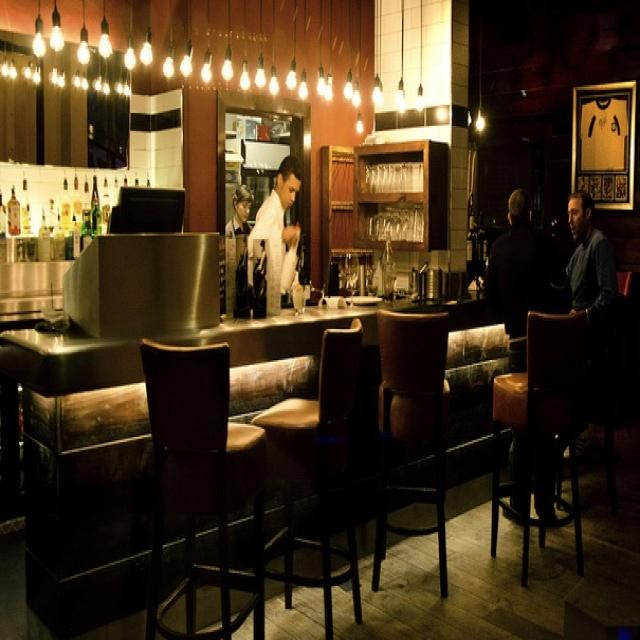Bottle: (316, 240, 366, 320), (366, 220, 406, 303), (0, 160, 26, 250), (98, 164, 125, 247), (245, 238, 272, 320), (54, 163, 77, 252), (37, 175, 60, 257), (82, 170, 103, 259), (17, 170, 37, 257), (68, 164, 85, 252)
People: (478, 187, 554, 349), (564, 163, 634, 337), (255, 146, 311, 312), (220, 151, 262, 307)
chair: (137, 334, 262, 640), (502, 292, 617, 602), (270, 314, 365, 620), (371, 295, 460, 600)
